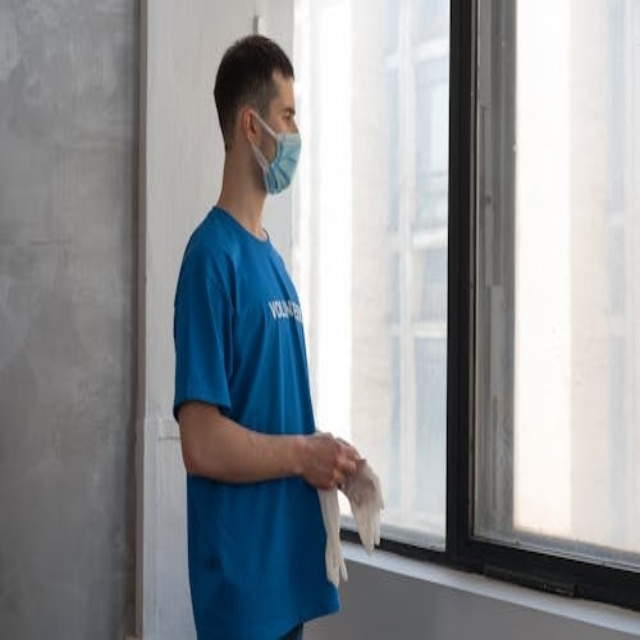Mascara: (246, 108, 301, 193)
Sin_gafas: (270, 96, 305, 133)
Sin_guantes: (297, 429, 359, 491)
